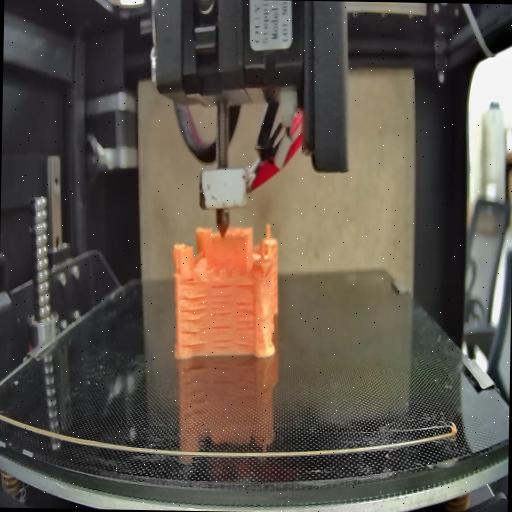cracks: (179, 294, 208, 349), (235, 300, 256, 346), (210, 284, 234, 318), (210, 324, 233, 348), (235, 282, 255, 290)
